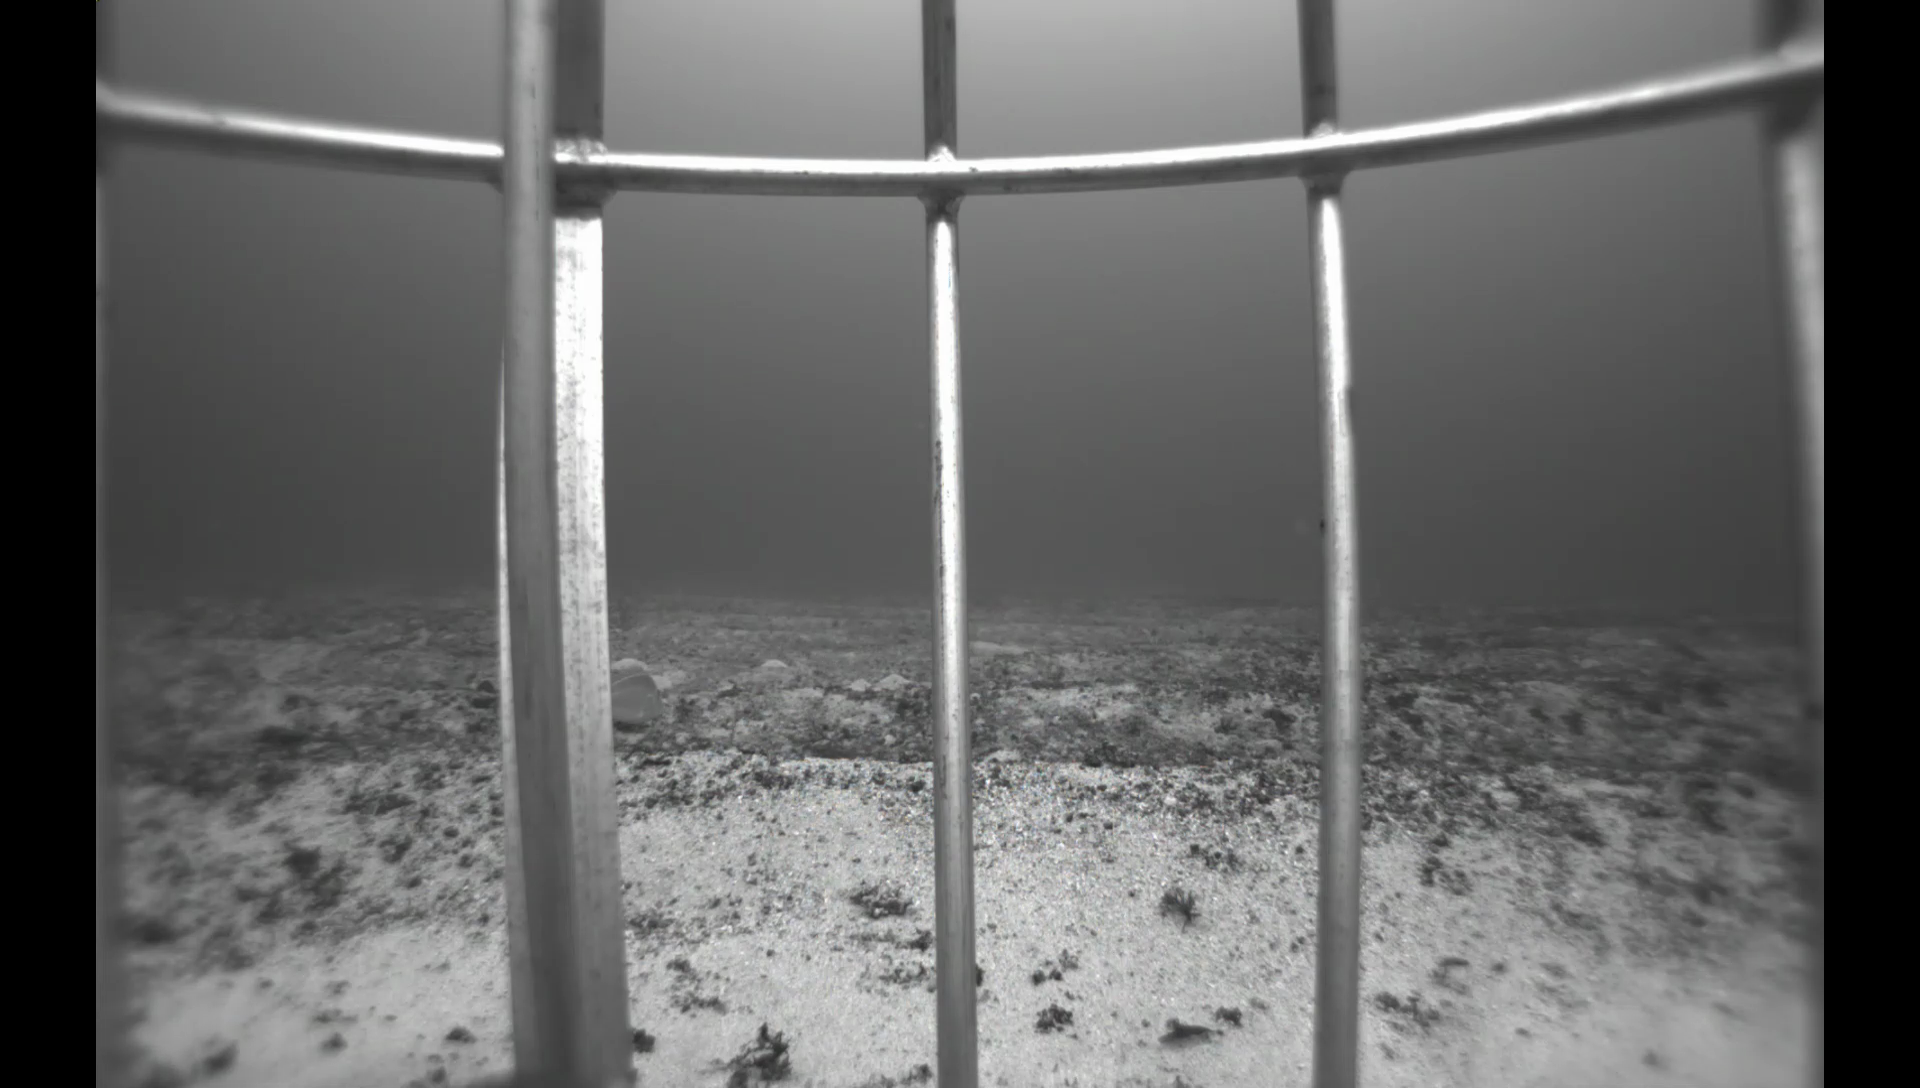CALAMUSPRORIDENS-170210605: (607, 657, 676, 732), (109, 622, 138, 663)
